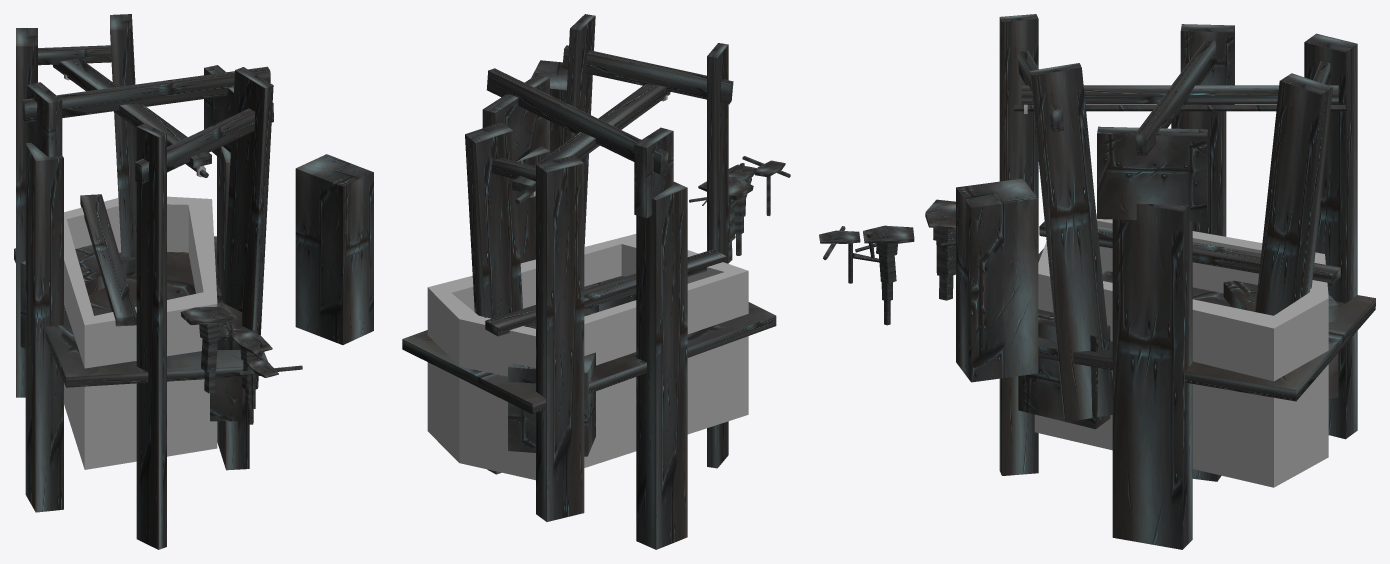
Rendered from LevelPart2.fbx.
3 views of the same model, side by side, from view 1: azimuth 30°, elevation 25°; view 2: azimuth 150°, elevation 25°; view 3: azimuth 270°, elevation 25° (orthographic). The views are drawn at different scales.
Parts seen in each view (by area): view 1: Tower31, Tower32, polySurface16, polySurface35, polySurface19, pCube22; view 2: Tower31, Tower32, polySurface35, polySurface19, polySurface16; view 3: Tower31, Tower32, polySurface35, polySurface16, pCube22, polySurface19.
Part boxes in pixels (<box>): Tower31: <box>16,14,373,549</box>; Tower32: <box>14,194,267,469</box>; polySurface16: <box>199,311,231,393</box>; polySurface35: <box>239,342,302,424</box>; polySurface19: <box>180,306,236,324</box>; pCube22: <box>230,330,272,354</box>; Tower31: <box>465,14,733,549</box>; Tower32: <box>402,234,776,480</box>; polySurface35: <box>734,156,790,255</box>; polySurface19: <box>698,176,753,200</box>; polySurface16: <box>689,197,737,262</box>; Tower31: <box>956,14,1357,549</box>; Tower32: <box>1018,214,1375,487</box>; polySurface35: <box>823,226,897,325</box>; polySurface16: <box>933,217,955,300</box>; pCube22: <box>863,225,914,243</box>; polySurface19: <box>925,199,955,229</box>.
Bounding box in the file's own units: 14509 × 22318 × 23325.
